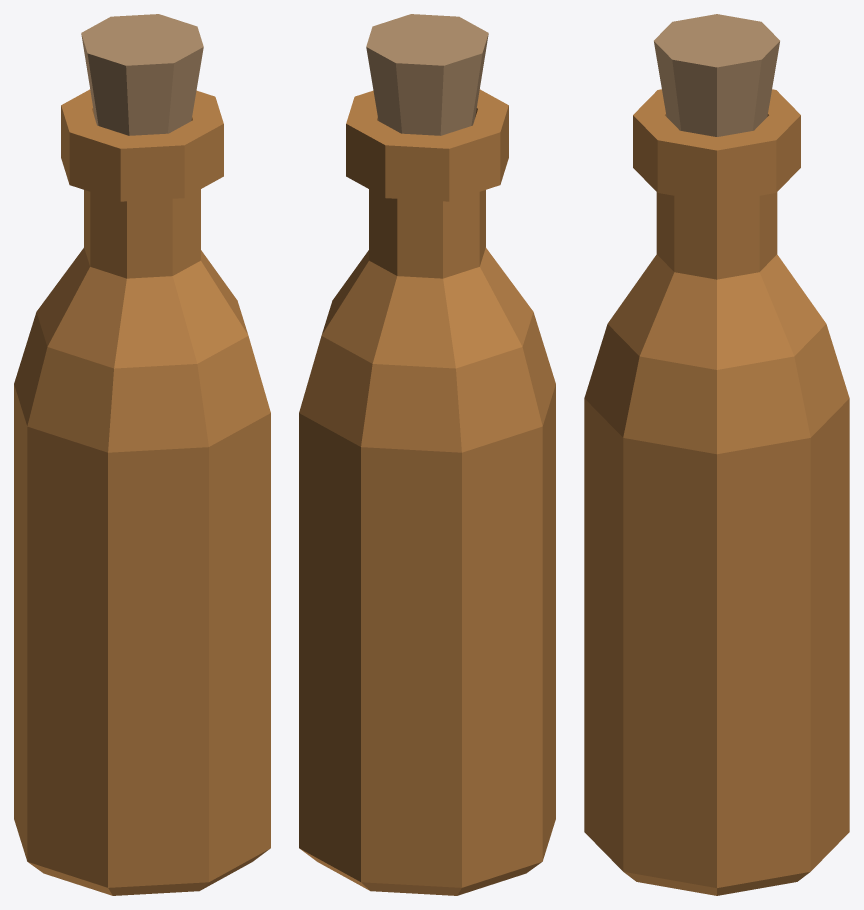
File: Bottle_03.fbx
3 views of the same model, side by side, from view 1: azimuth 30°, elevation 25°; view 2: azimuth 150°, elevation 25°; view 3: azimuth 270°, elevation 25° (orthographic).
Visible parts, largest first — view 1: Bottle_03; view 2: Bottle_03; view 3: Bottle_03.
Part boxes in pixels (x1,y1,x2,y2): Bottle_03: (14, 14, 270, 895); Bottle_03: (299, 14, 555, 895); Bottle_03: (584, 14, 849, 895).
Size of the model in its own units: 0.1103 by 0.3703 by 0.1103.
